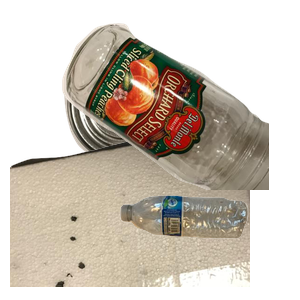glass: (60, 21, 300, 201)
metal: (62, 43, 232, 198)
plastic: (118, 193, 300, 300)
trash: (10, 120, 250, 300)
